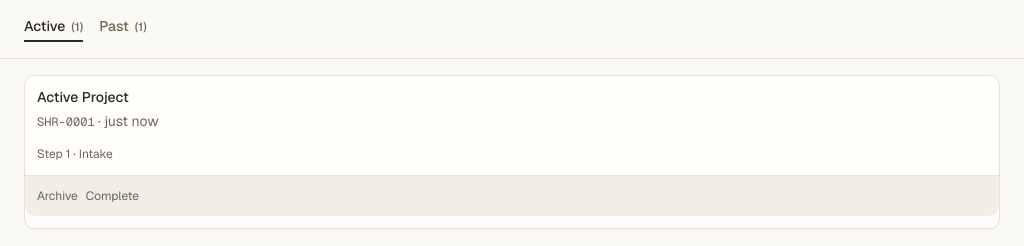
it: ProjectList › Past tab shows archived projects, not active ones
This screenshot has width=1024, height=246.
Click the button "Past(1)".
click(123, 29)  # box [99, 16, 147, 42]
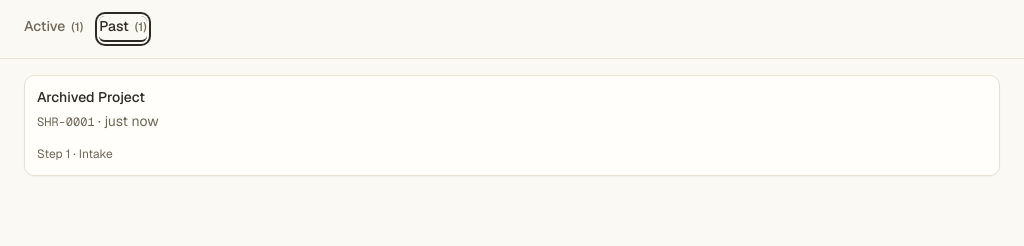
Check: the text "Archived Project" is shown, box [37, 88, 145, 106]
Check: the text "Active Project" is gone
